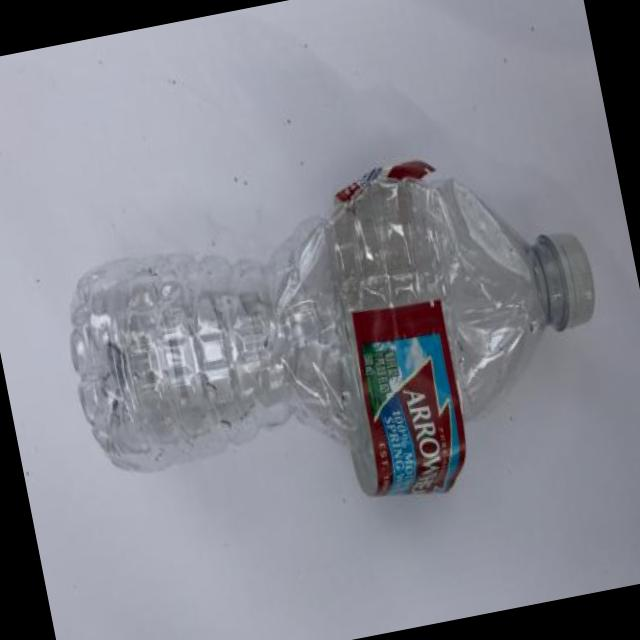Trash: (33, 122, 631, 560)
